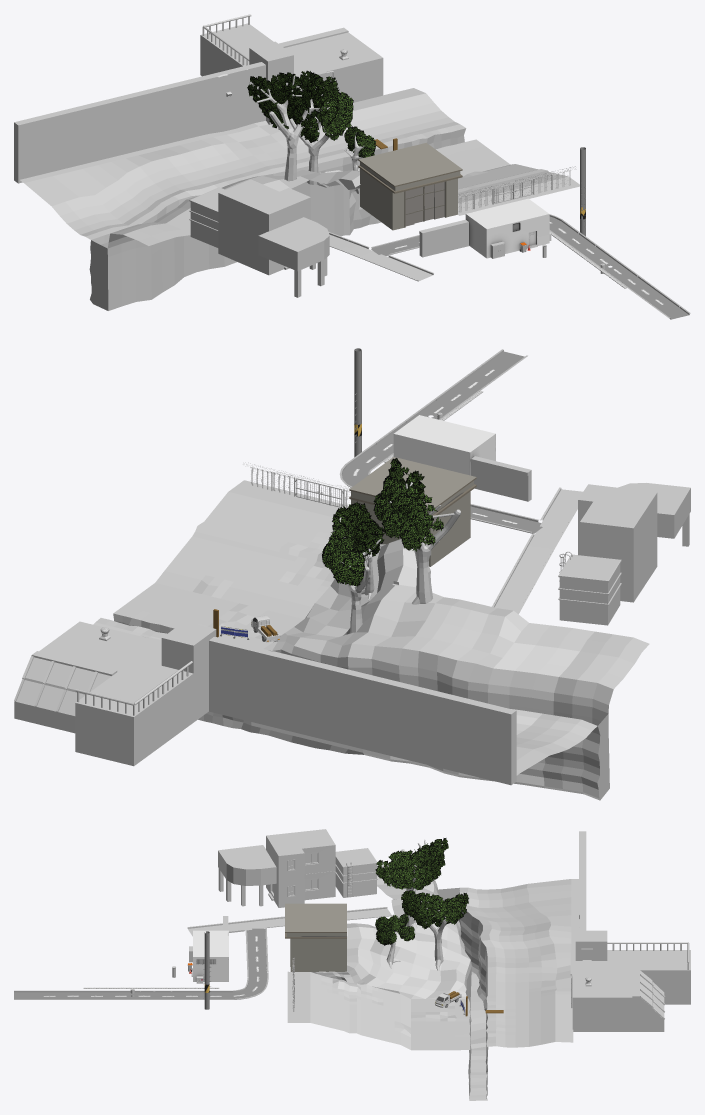
The model's file is Map1.fbx.
The picture shows the model from 3 angles, top to bottom: view 1: azimuth 30°, elevation 25°; view 2: azimuth 150°, elevation 25°; view 3: azimuth 270°, elevation 25°; orthographic projection. The views are drawn at different scales.
Parts seen in each view (by area): view 1: Plane.006, Cube.021, Cube.013, Cube.016, Cube.009, Plane.022, Cube.002, Plane.013, Plane.003, Cube.010, Cube.008, Plane.018 (+6 smaller); view 2: Plane.006, Cube.021, Cube.016, Cube.013, Cube.009, Cube.002, Cube.010, Plane.013, Plane.022, Plane.003, Plane.024, Cube.008 (+5 smaller); view 3: Plane.006, Cube.016, Cube.013, Cube.009, Plane.013, Plane.022, Cube.010, Plane.024, Cube.002, Plane.003, Plane.005, Plane.016 (+2 smaller).
Boxes of the visible parts, x1,y1,x2,y2 form: Plane.006: (20, 88, 579, 310); Cube.021: (14, 62, 265, 183); Cube.013: (218, 179, 329, 297); Cube.016: (200, 23, 383, 124); Cube.009: (358, 142, 462, 230); Plane.022: (247, 70, 339, 129); Cube.002: (465, 198, 549, 258); Plane.013: (371, 216, 689, 319); Plane.003: (328, 232, 433, 281); Cube.010: (189, 187, 225, 247); Cube.008: (419, 219, 468, 257); Plane.018: (256, 75, 329, 181); Plane.006: (93, 480, 649, 800); Cube.021: (209, 637, 516, 785); Cube.016: (14, 621, 216, 766); Cube.013: (578, 483, 690, 602); Cube.009: (349, 457, 476, 566); Cube.002: (393, 415, 495, 475); Cube.010: (558, 554, 621, 625); Plane.013: (342, 351, 542, 533); Plane.022: (373, 458, 443, 551); Plane.003: (492, 487, 582, 614); Plane.024: (322, 501, 385, 586); Cube.008: (471, 456, 531, 501); Plane.006: (287, 866, 578, 1100); Cube.016: (570, 930, 690, 1031); Cube.013: (218, 829, 335, 907); Cube.009: (285, 903, 346, 971); Plane.013: (14, 928, 267, 998); Plane.022: (375, 838, 448, 890); Cube.010: (335, 848, 377, 897); Plane.024: (401, 890, 468, 929); Cube.002: (191, 930, 228, 981); Plane.003: (187, 907, 392, 936); Plane.005: (14, 927, 268, 999); Plane.016: (375, 913, 415, 945).
Bounding box in the file's own units: 419 × 206 × 726.
